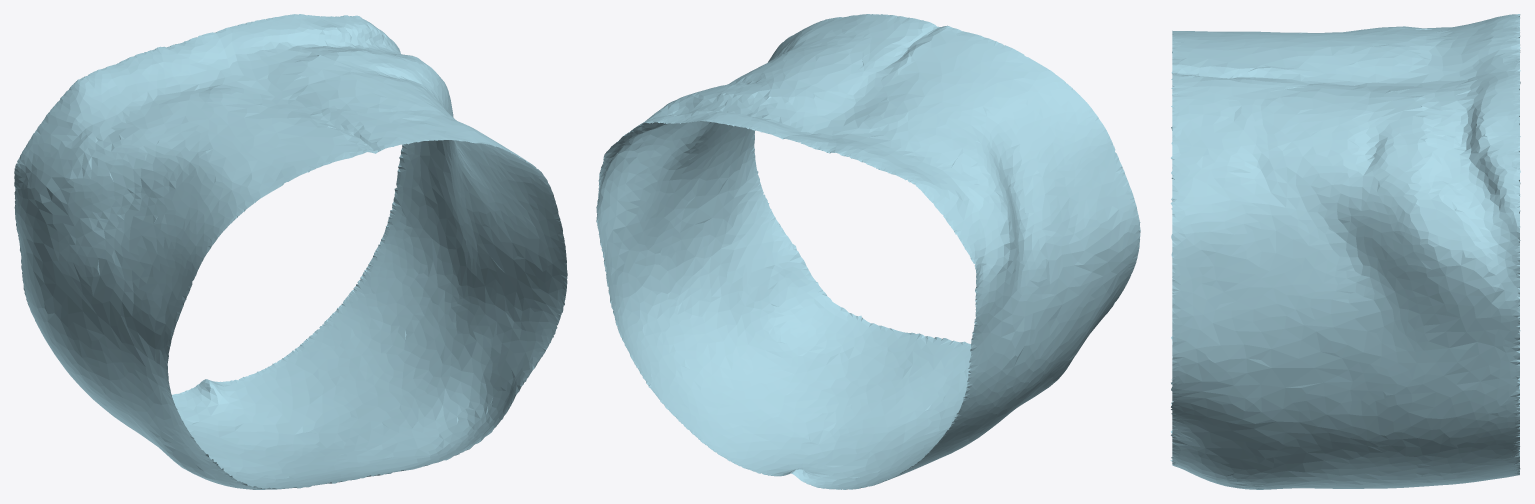
The model's file is skin.obj.
3 renders of one model, left to right at view 1: azimuth 30°, elevation 25°; view 2: azimuth 150°, elevation 25°; view 3: azimuth 270°, elevation 25°, orthographic. The views are drawn at different scales.
Visible parts, largest first — view 1: grp1; view 2: grp1; view 3: grp1.
Part boxes in pixels (box(x1,y1,x2,y2)): grp1: box(14, 14, 567, 489); grp1: box(596, 14, 1140, 489); grp1: box(1170, 14, 1520, 489).
Size of the model in its own units: 349 by 299 by 241.
